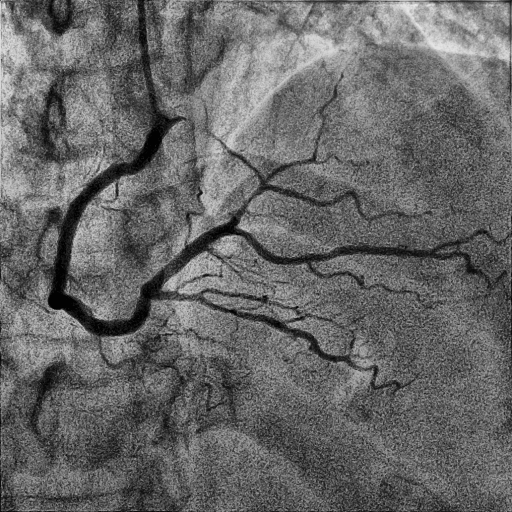pborca: (142, 225, 435, 291)
pda: (152, 291, 414, 389)
rca: (48, 128, 165, 336)
